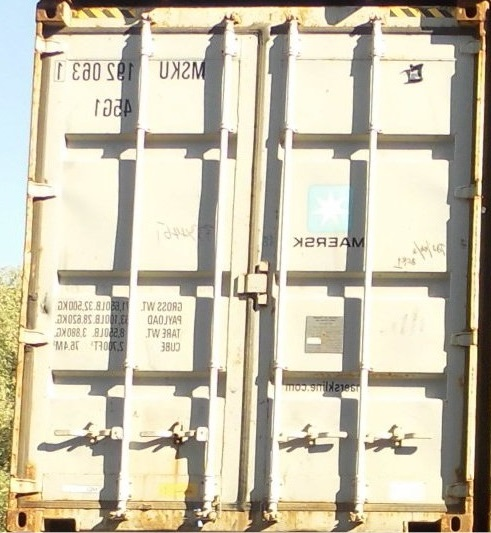container_door: (11, 4, 484, 532)
